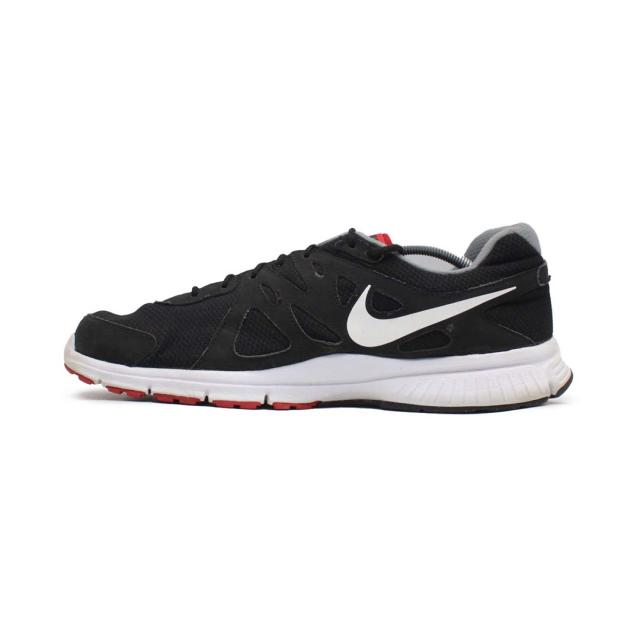heel: (481, 224, 553, 353)
midsole: (62, 333, 572, 414)
uppersole: (75, 230, 484, 371)
